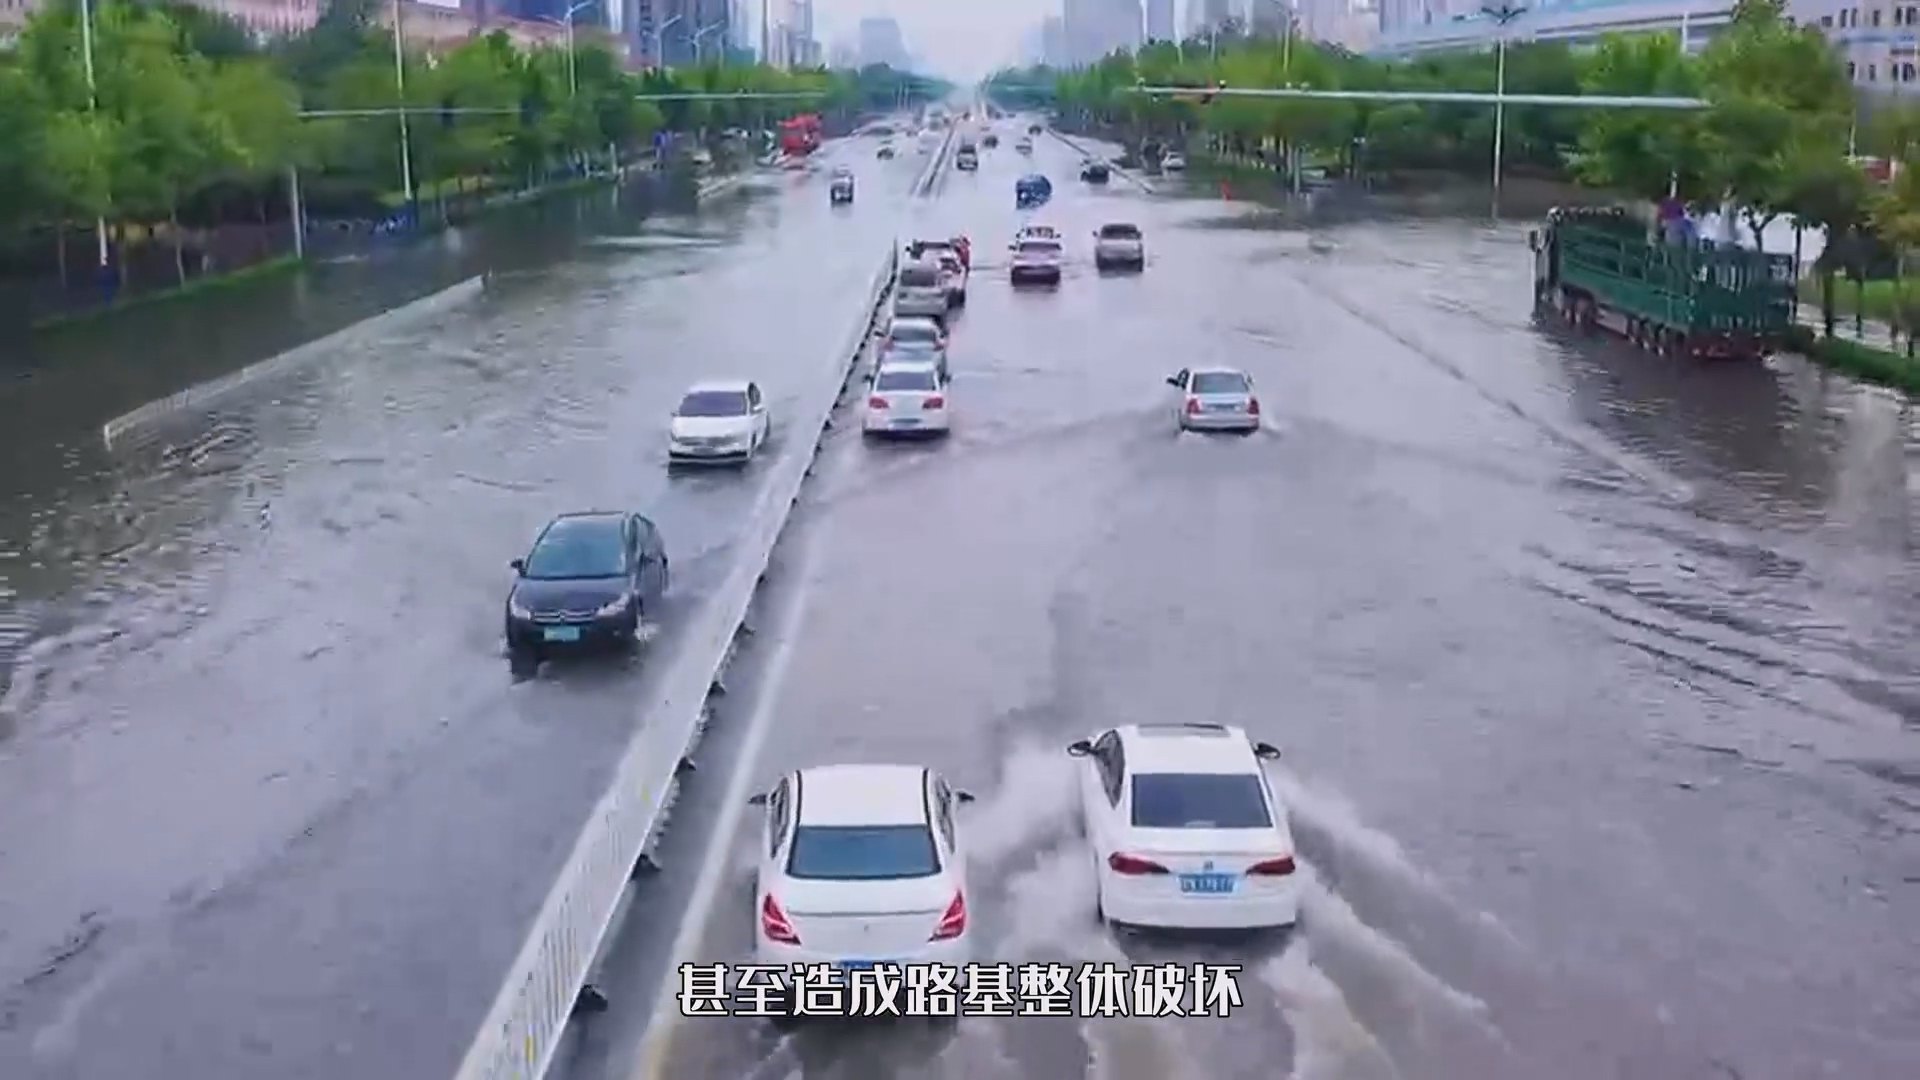puddle: (1, 318, 1920, 1080)
